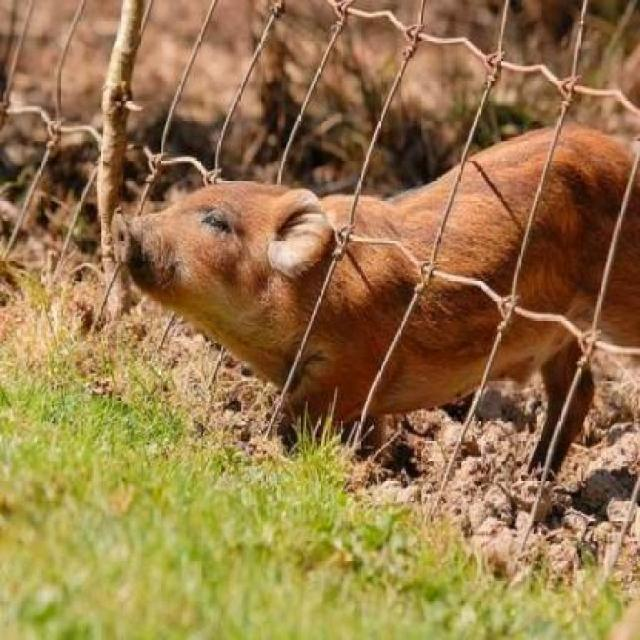Boar: (58, 132, 640, 474)
